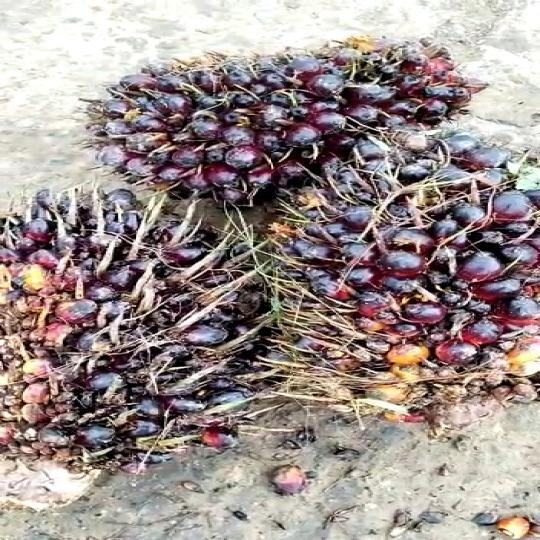kurang masak: (0, 180, 264, 476), (291, 128, 540, 428), (84, 46, 424, 184)
